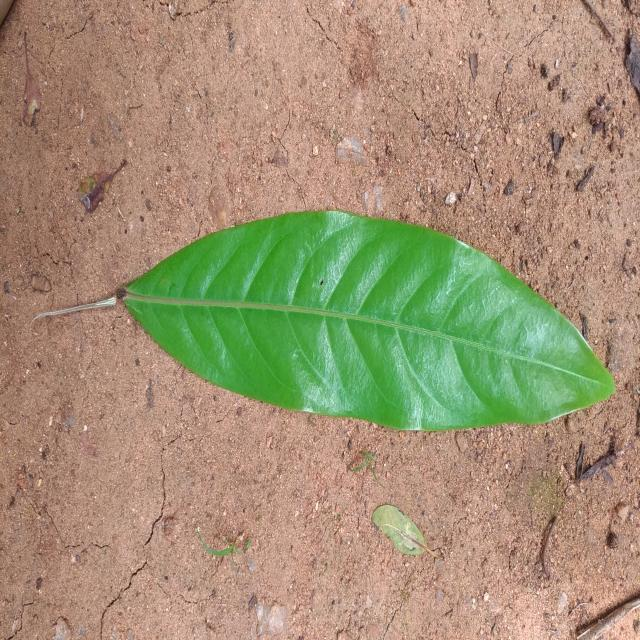seethaashoka: (124, 211, 615, 431)
